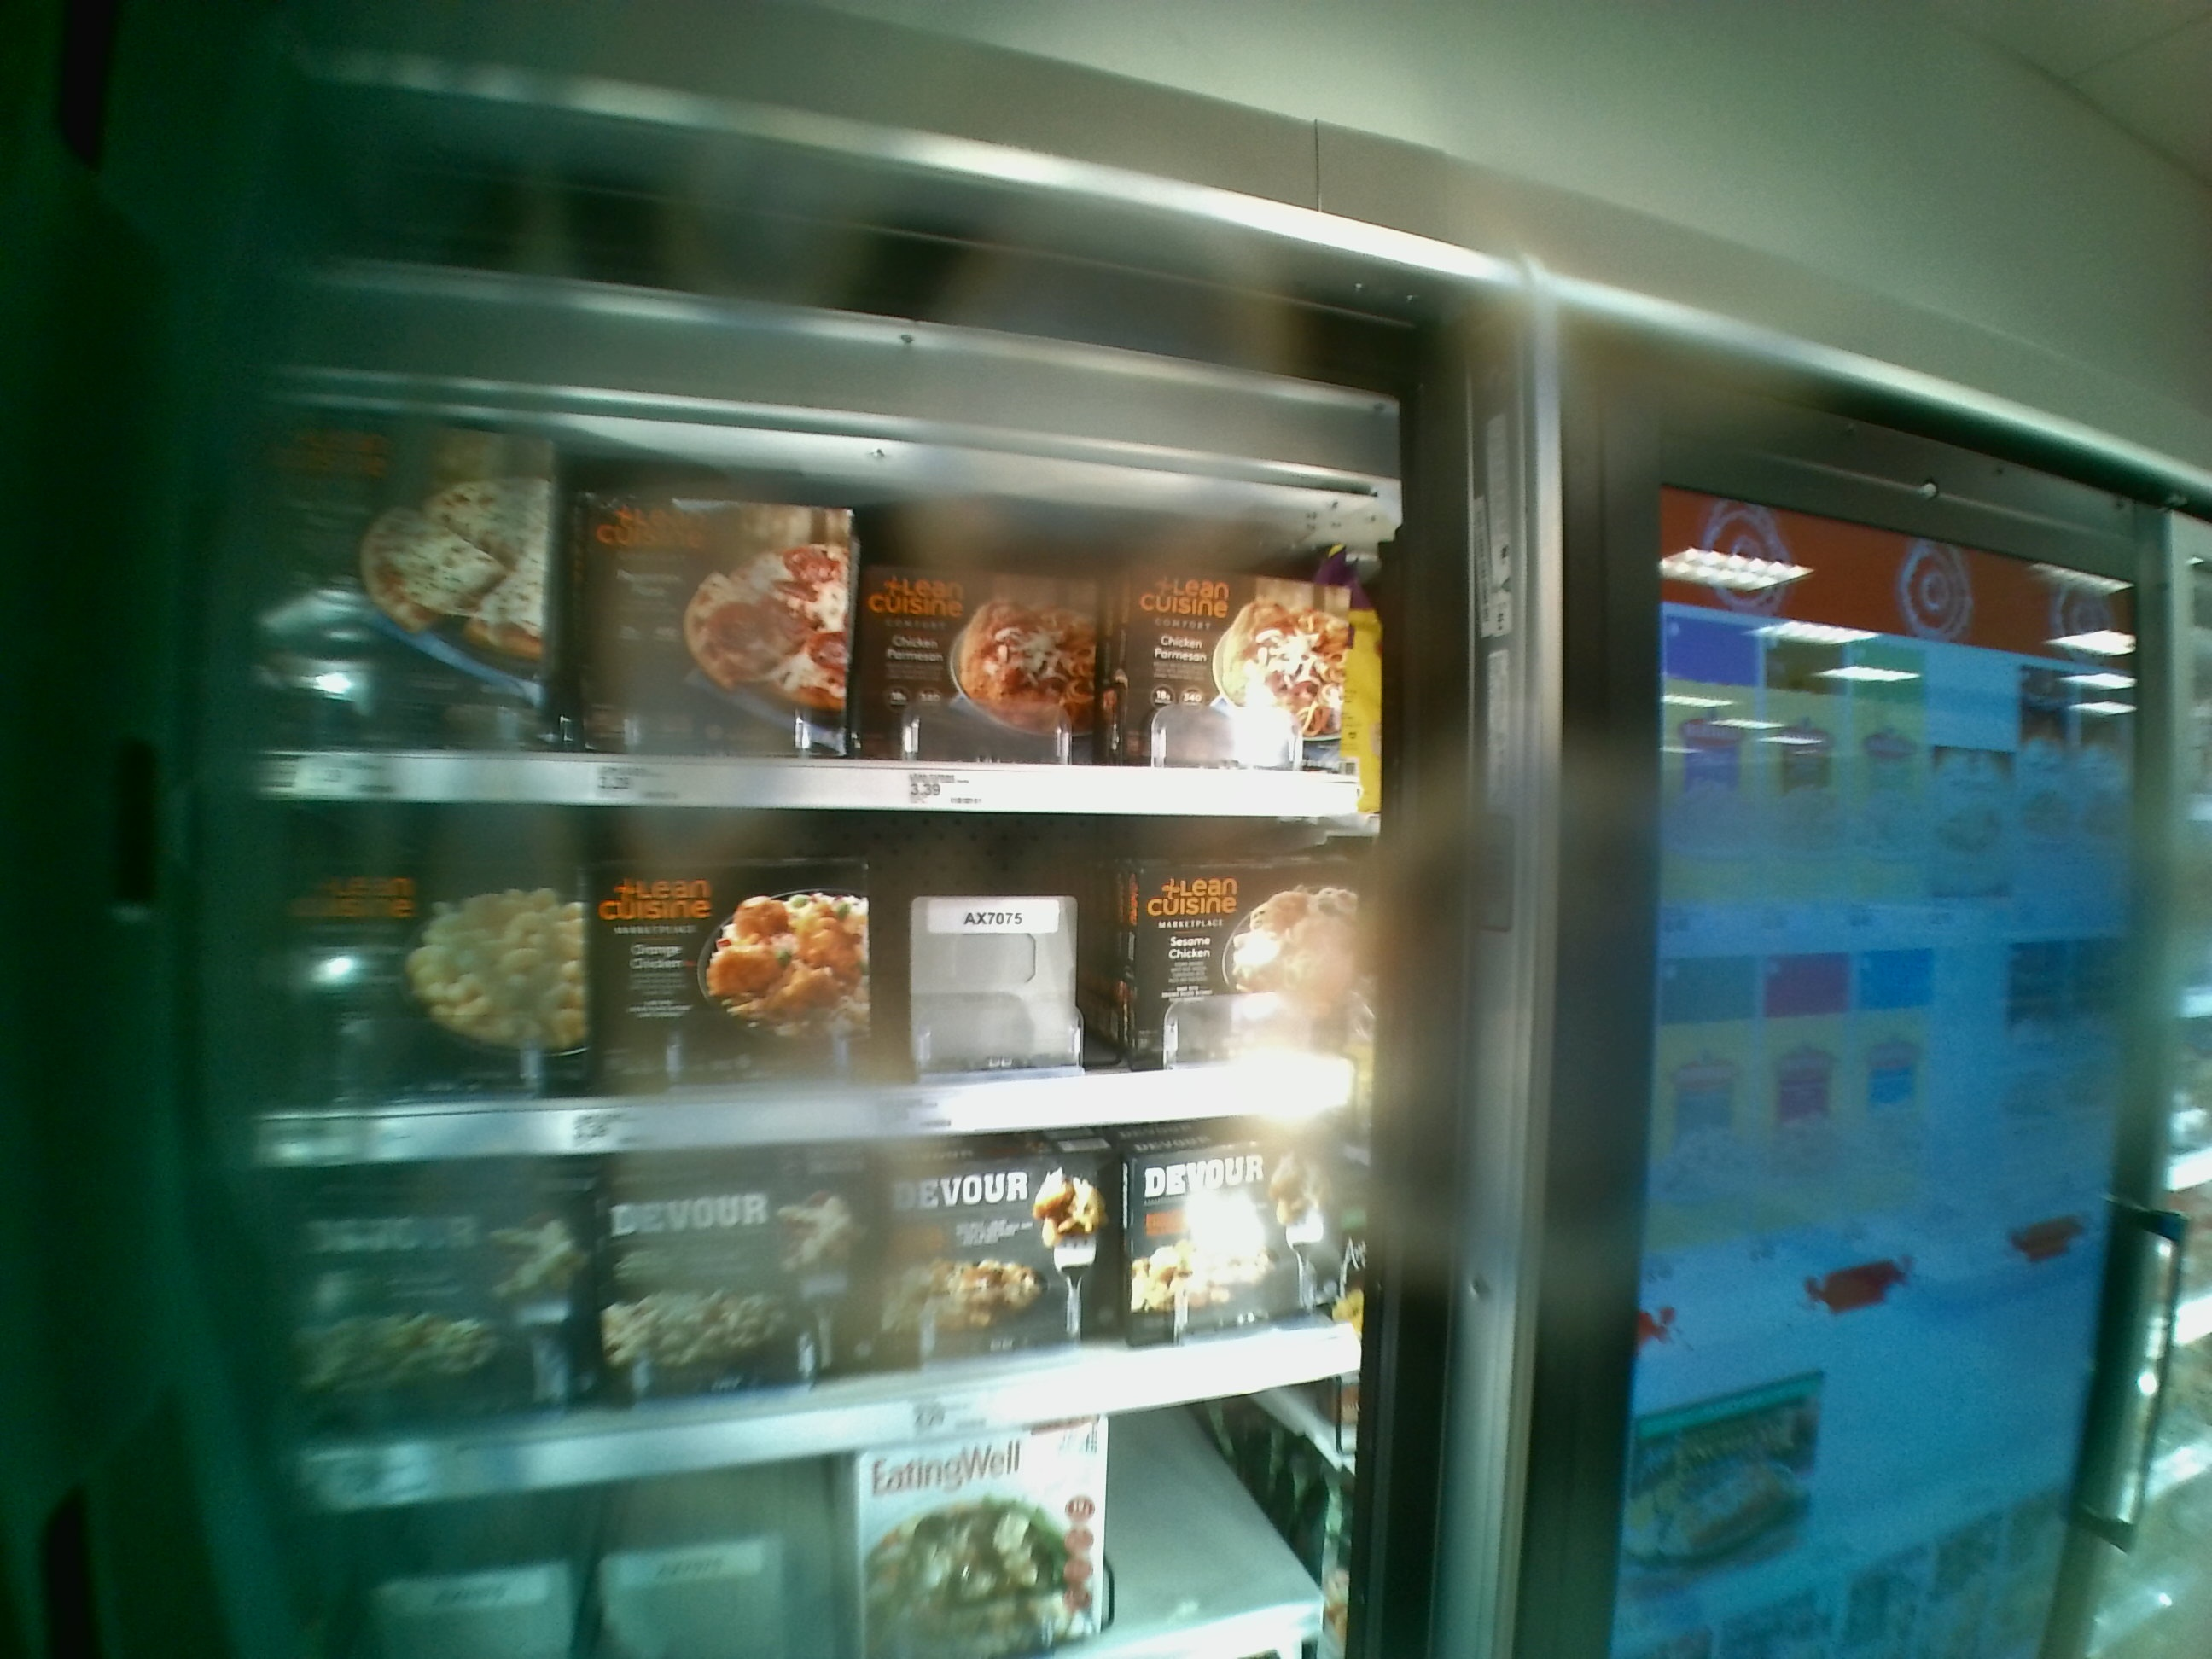shelf: (251, 403, 1367, 817), (233, 802, 1374, 1166)
